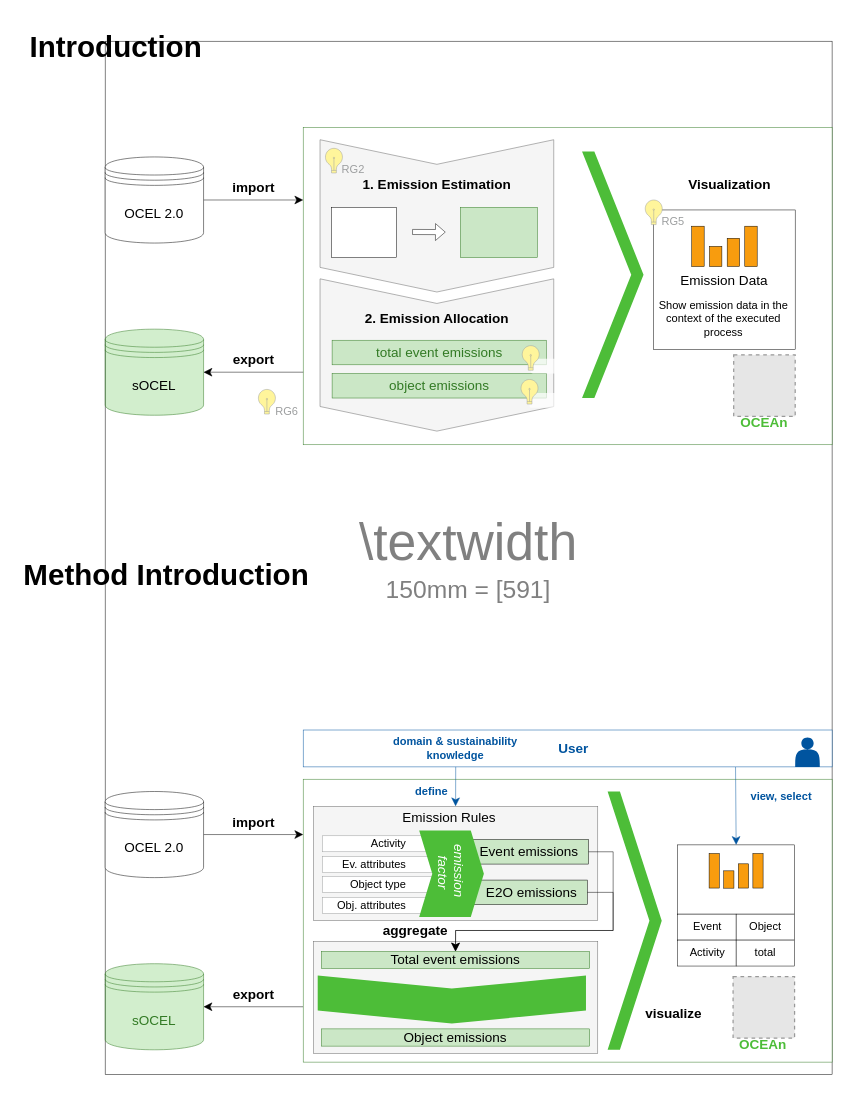
Image size: 854x1096. Some labels were removed from this diagram. Grey dashed boxes stand in for pictures. The centre of each missing label's shape, as x and y in pixels:
"Allocation Rules" goes at [451,999].
"Emissions per" goes at [735,879].
"observed events" goes at [363,231].
"process-related emissions" goes at [498,231].
"RG3" goes at [546,365].
"RG4.1" goes at [550,399].
